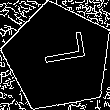L_W: (30, 38, 86, 77)
